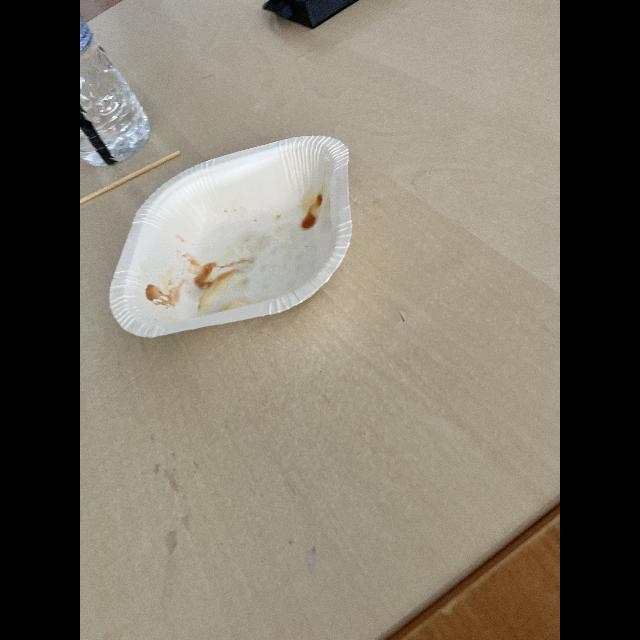cardboard_bowl: (102, 124, 364, 342)
